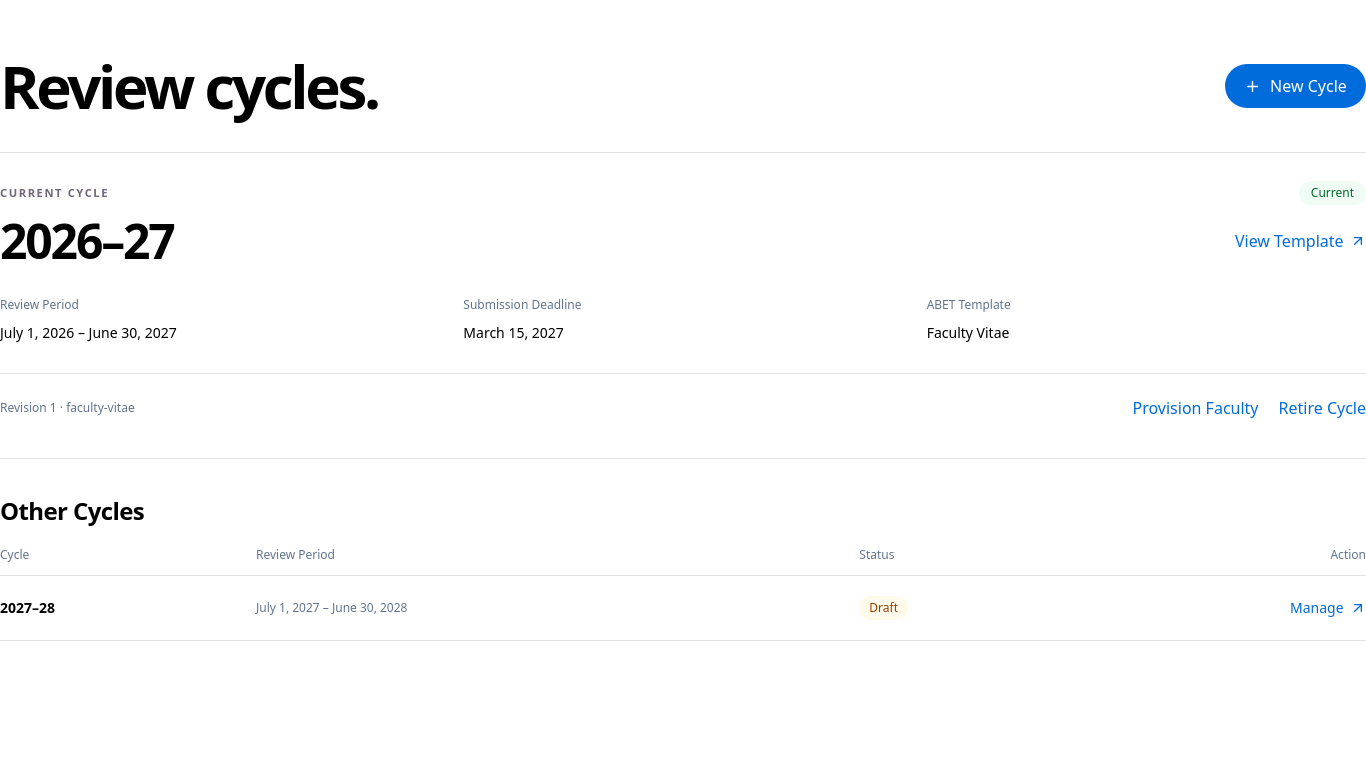
Scenario: ReviewCycleAdministration › does not submit a deadline outside the review period
The width and height of the screenshot is (1366, 768).
Click the button "New Cycle": (1296, 86) [1225,64,1365,108]
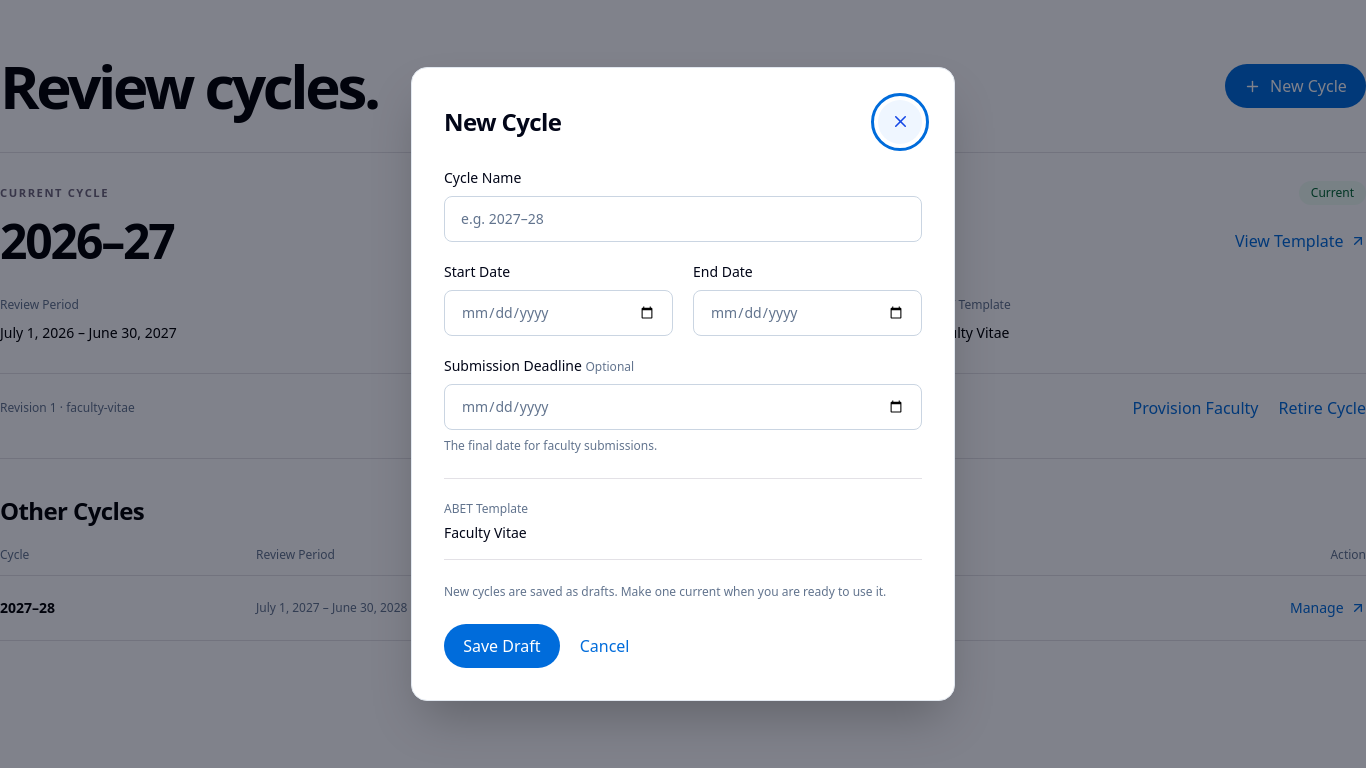
In the field labelled "Cycle Name": (683, 219) [444,196,922,242], type "2028–29"
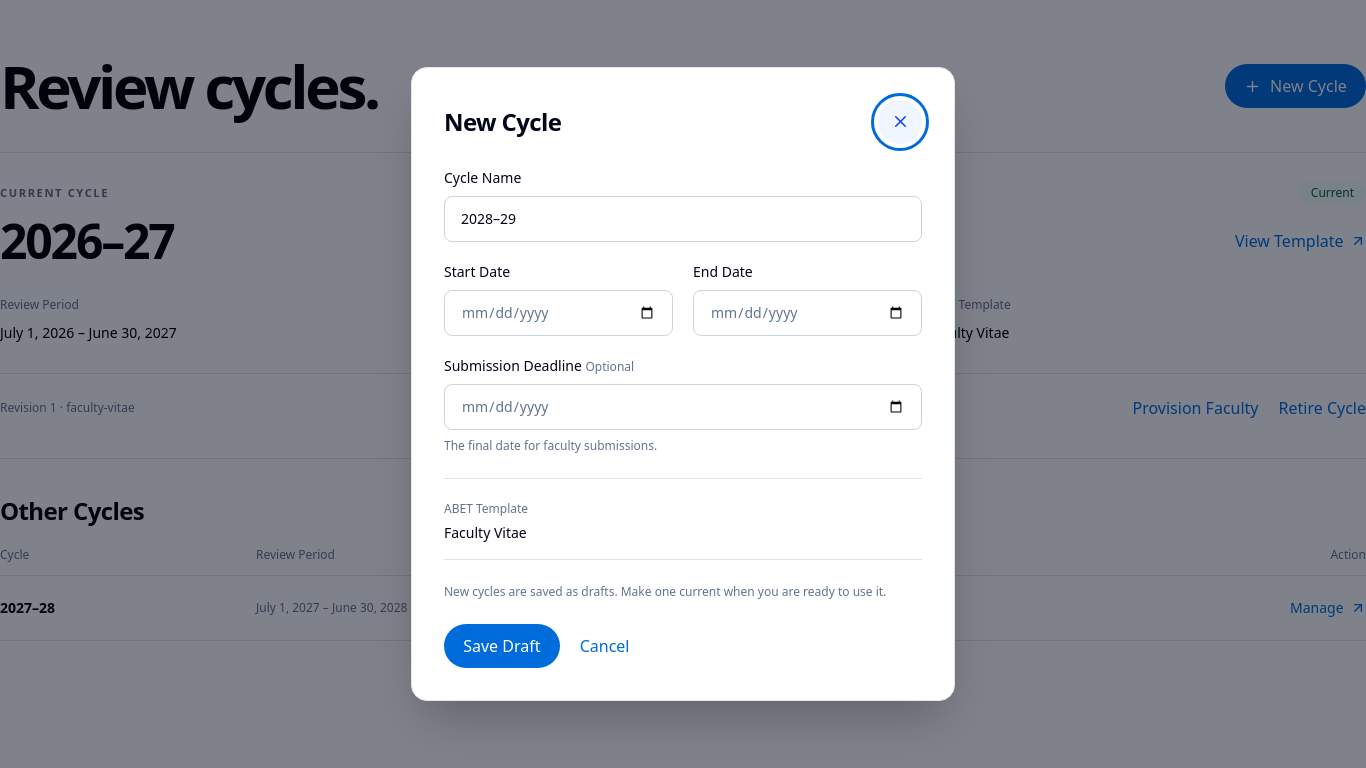
In the date field labelled "Start Date": (558, 313) [444,290,673,336], type "2028-07-01"
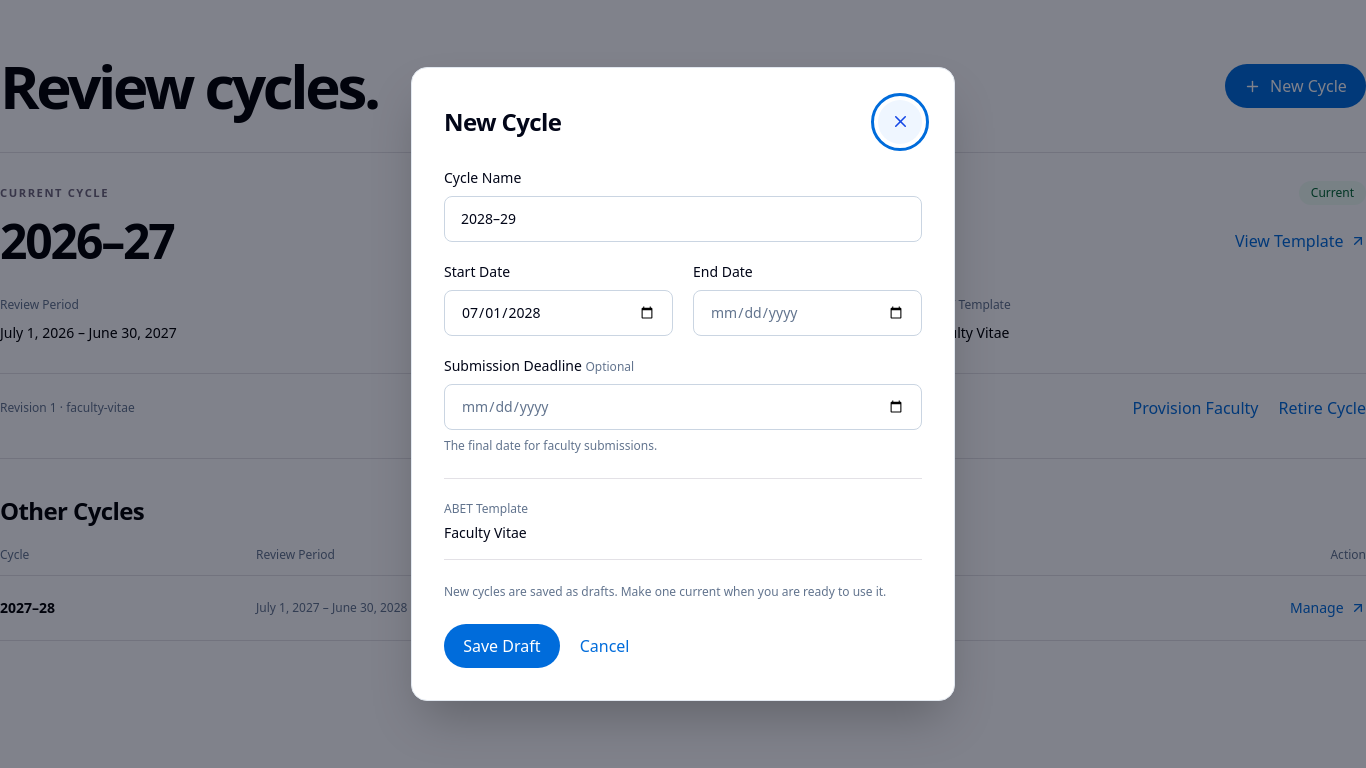
In the date field labelled "End Date": (808, 313) [693,290,922,336], type "2029-06-30"
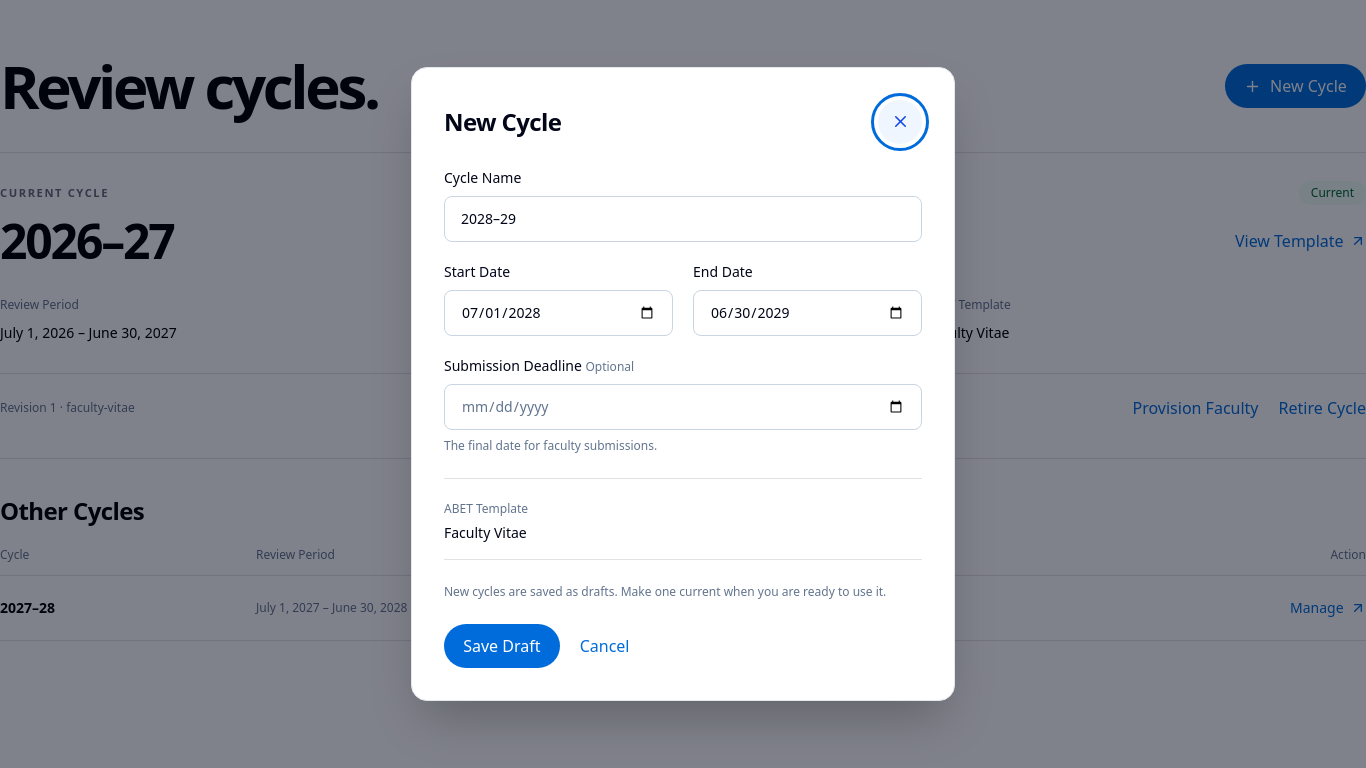
In the date field labelled "Submission Deadline": (683, 407) [444,384,922,430], type "2029-07-01"
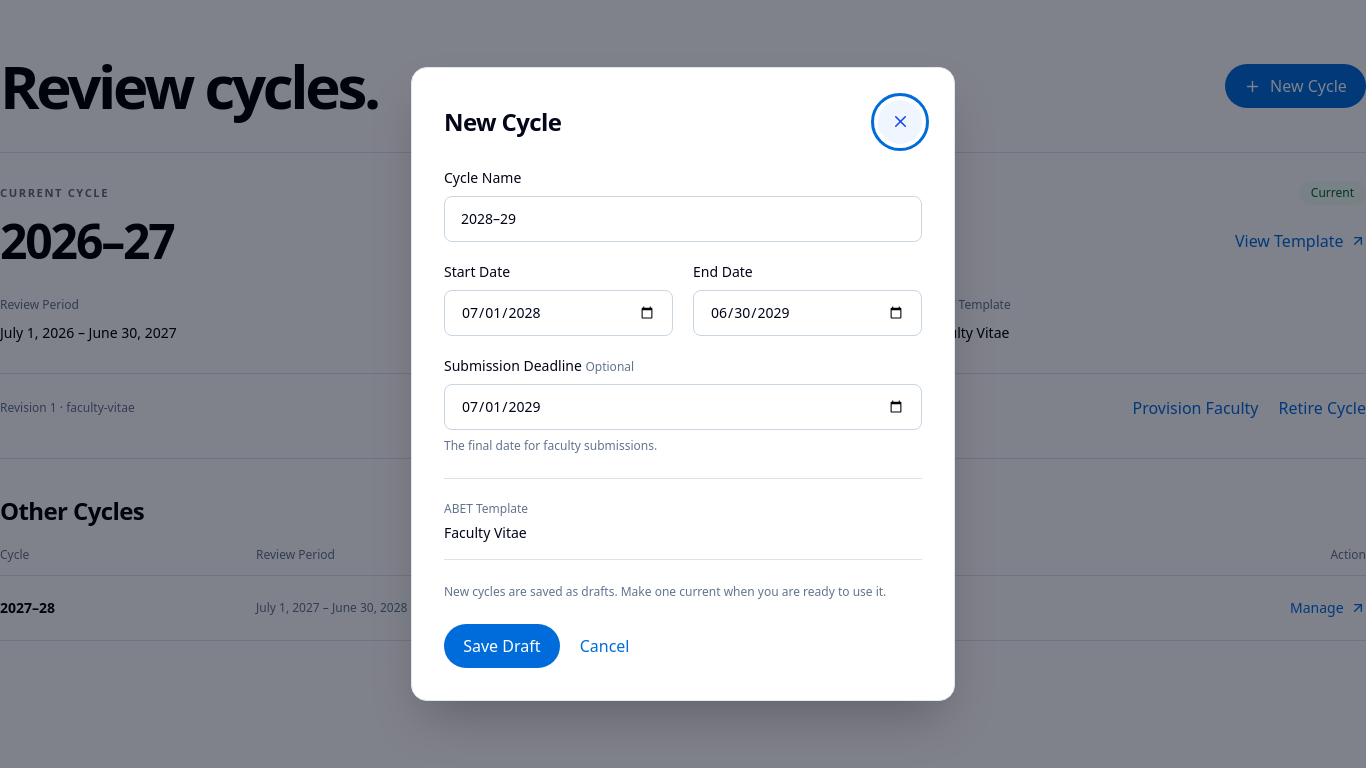
Submit the form labelled "Cycle Name", box [444,168,922,668]
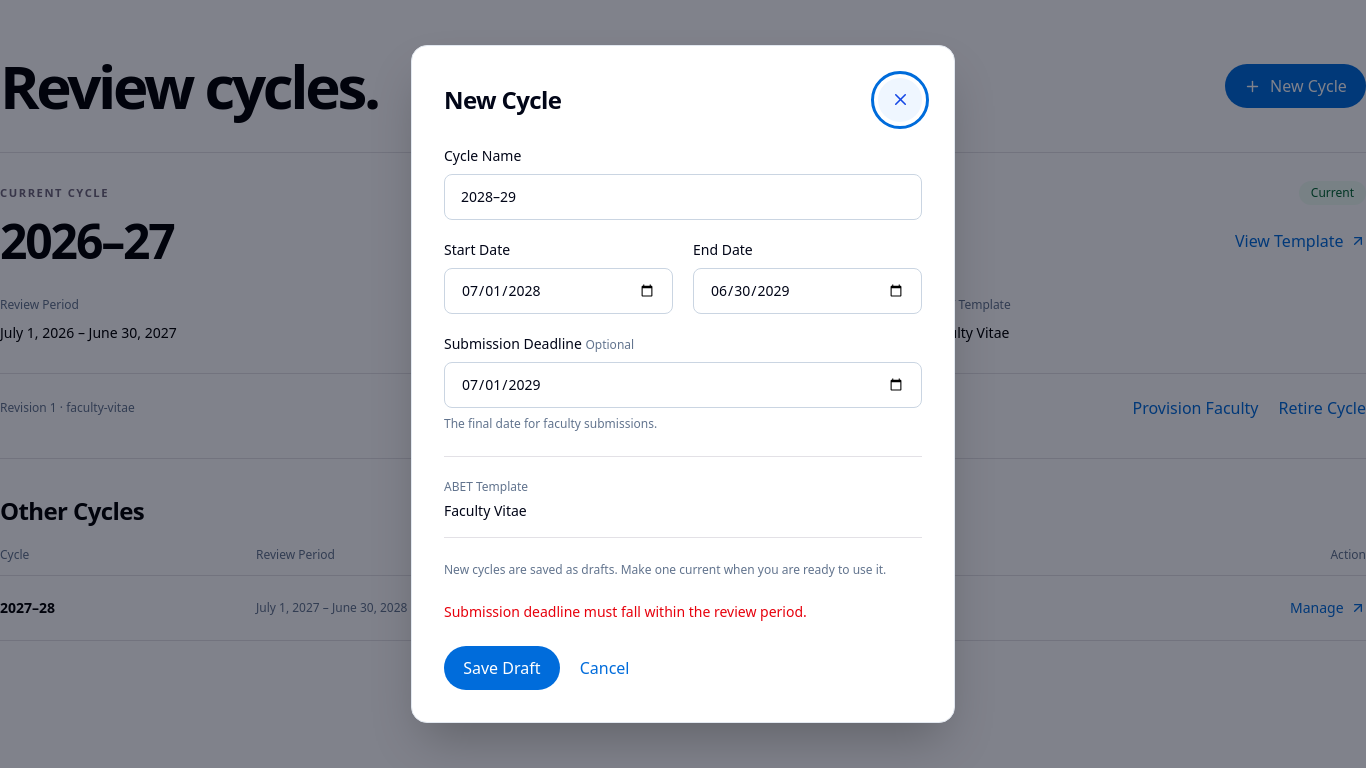
Check: the message "Submission deadline must fall within the review period." is shown, box [444,602,807,621]
